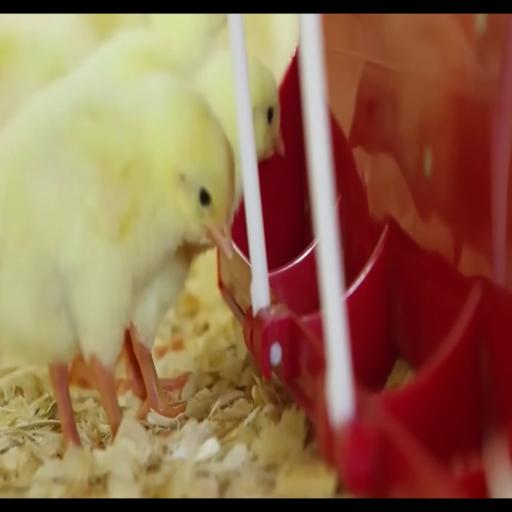chick: (0, 74, 234, 445), (126, 245, 207, 417)
